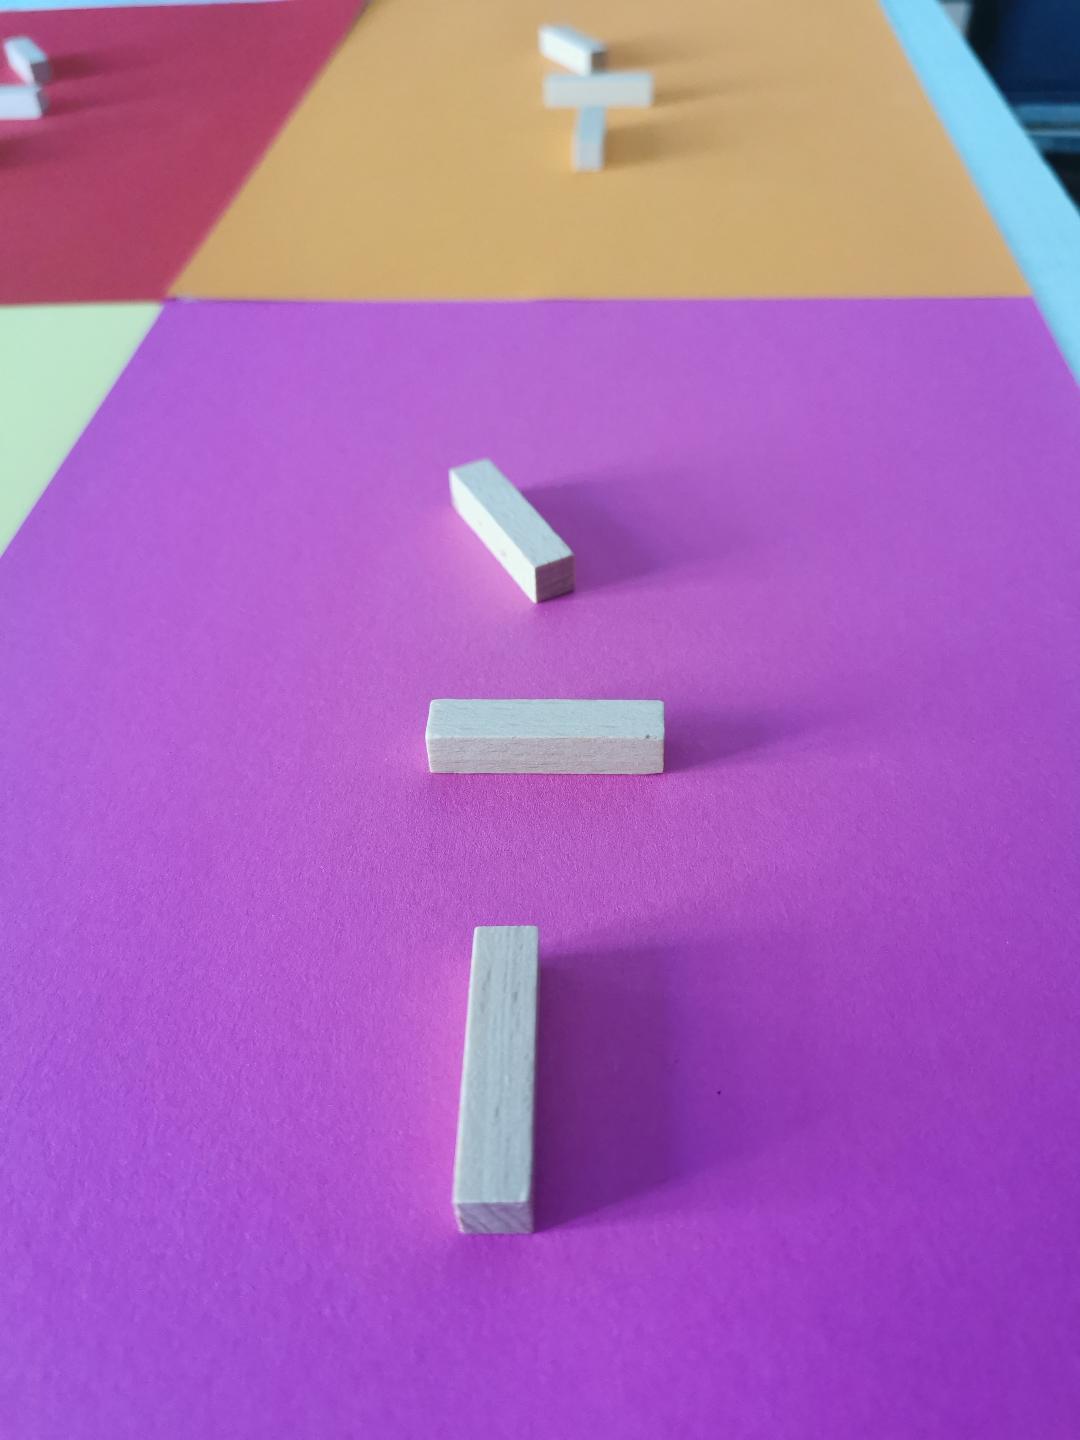jenga: (453, 925, 538, 1235), (424, 697, 664, 773), (450, 458, 574, 602), (542, 70, 652, 107), (538, 25, 608, 76), (2, 36, 51, 84), (574, 107, 605, 171)
